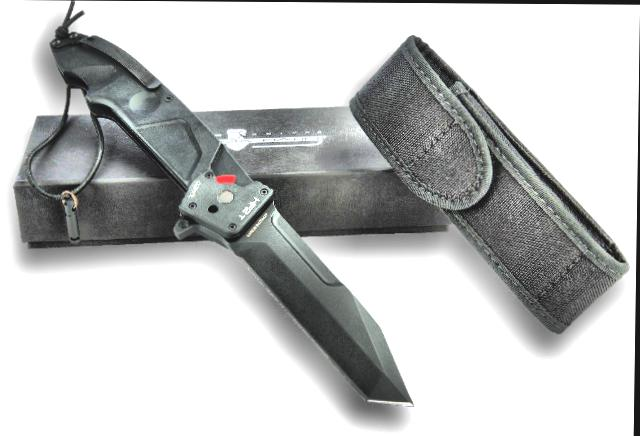knife: (218, 193, 421, 415)
